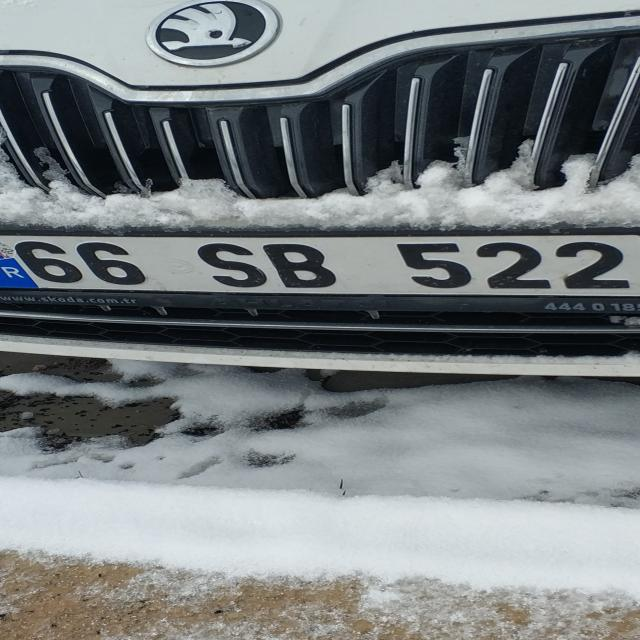plate: (0, 232, 640, 298)
